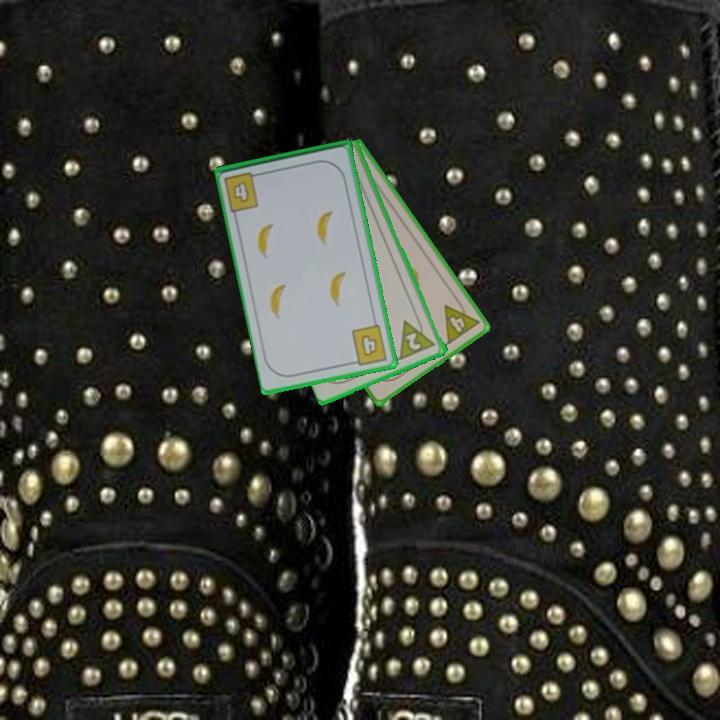2p: (396, 312, 439, 363)
4b: (221, 168, 265, 215), (348, 321, 390, 368)
4p: (440, 294, 483, 348)
